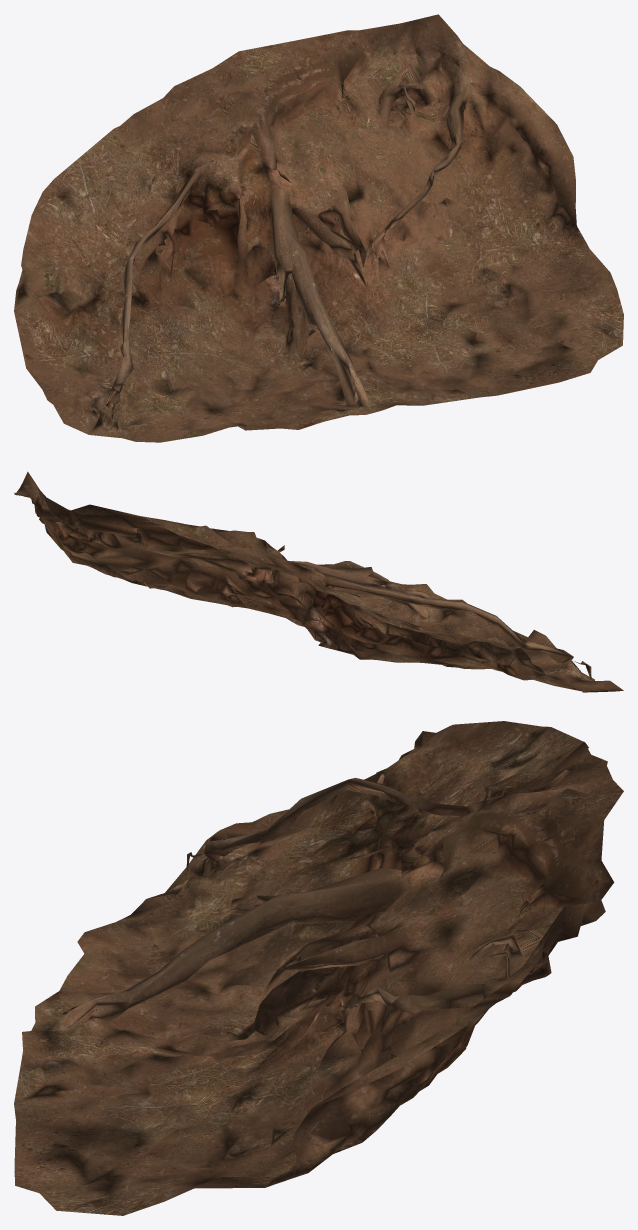
File: root_cluster_01.glb
The picture shows the model from 3 angles, top to bottom: view 1: azimuth 30°, elevation 25°; view 2: azimuth 150°, elevation 25°; view 3: azimuth 270°, elevation 25°; orthographic projection. The views are drawn at different scales.
Visible parts, largest first — view 1: root_cluster_01; view 2: root_cluster_01; view 3: root_cluster_01.
Part boxes in pixels (x1,y1,x2,y2): root_cluster_01: (14, 14, 623, 442); root_cluster_01: (14, 471, 623, 692); root_cluster_01: (14, 721, 623, 1215).
Size of the model in its own units: 4.12 by 1.51 by 2.68.
1 material, 1 textured.
